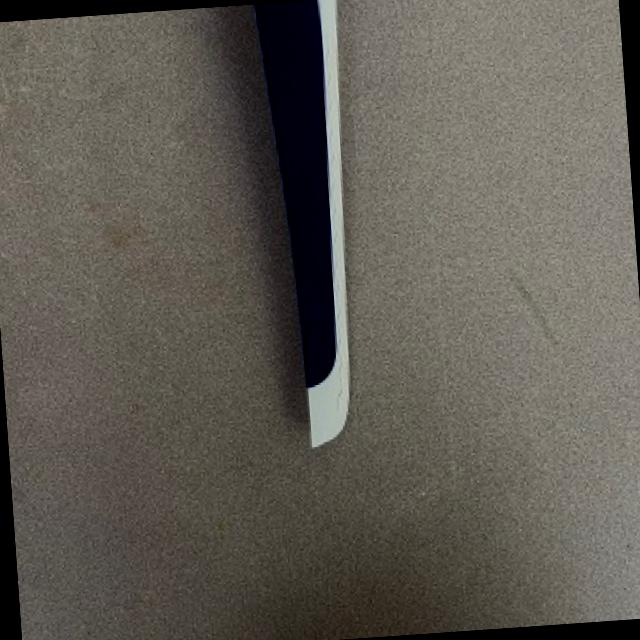healthy: (259, 0, 351, 442)
